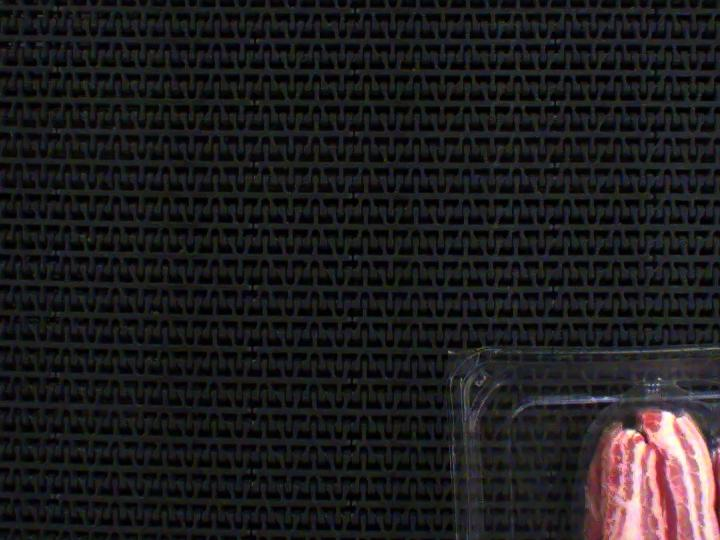unsealed: (558, 338, 720, 477)
